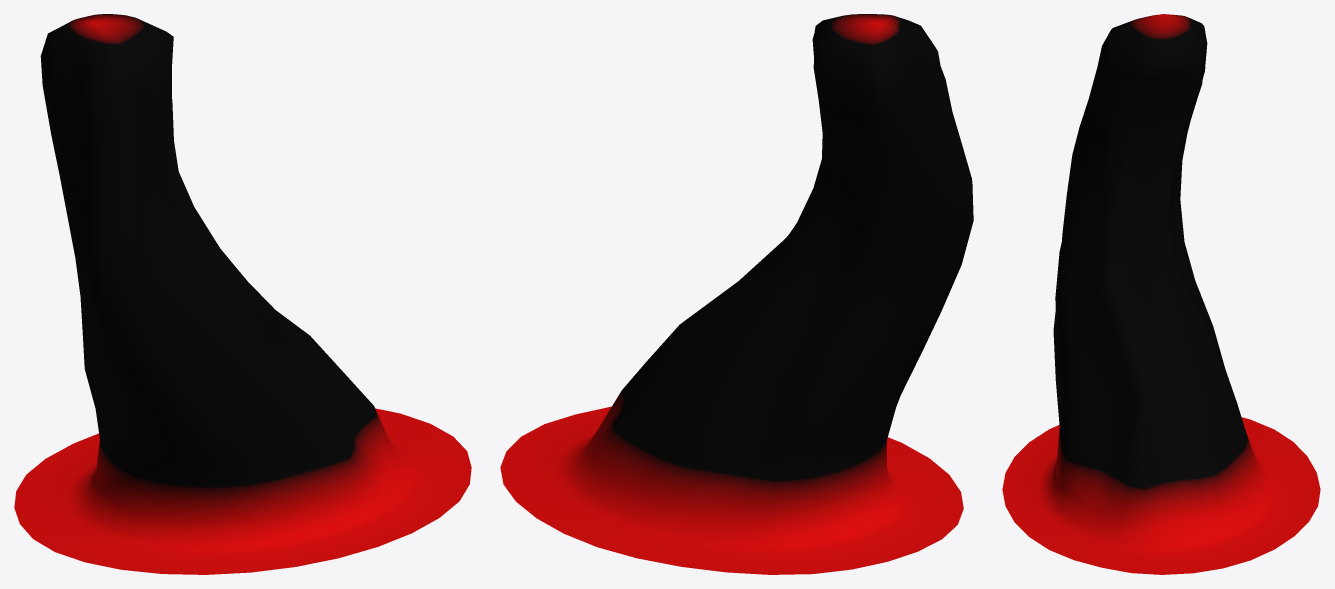
File: GroundObject02B.fbx
The picture shows the model from 3 angles, left to right: view 1: azimuth 30°, elevation 25°; view 2: azimuth 150°, elevation 25°; view 3: azimuth 270°, elevation 25°; orthographic projection. The views are drawn at different scales.
Parts seen in each view (by area): view 1: GroundObject02B; view 2: GroundObject02B; view 3: GroundObject02B.
Boxes of the visible parts, bbox=[...] form: GroundObject02B: bbox=[14, 14, 471, 574]; GroundObject02B: bbox=[500, 14, 973, 574]; GroundObject02B: bbox=[1002, 14, 1320, 574].
Size of the model in its own units: 1.76 by 2 by 1.39.
